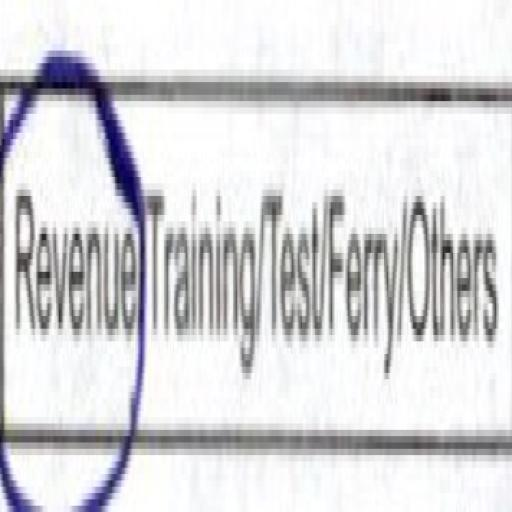check: (1, 2, 145, 512)
